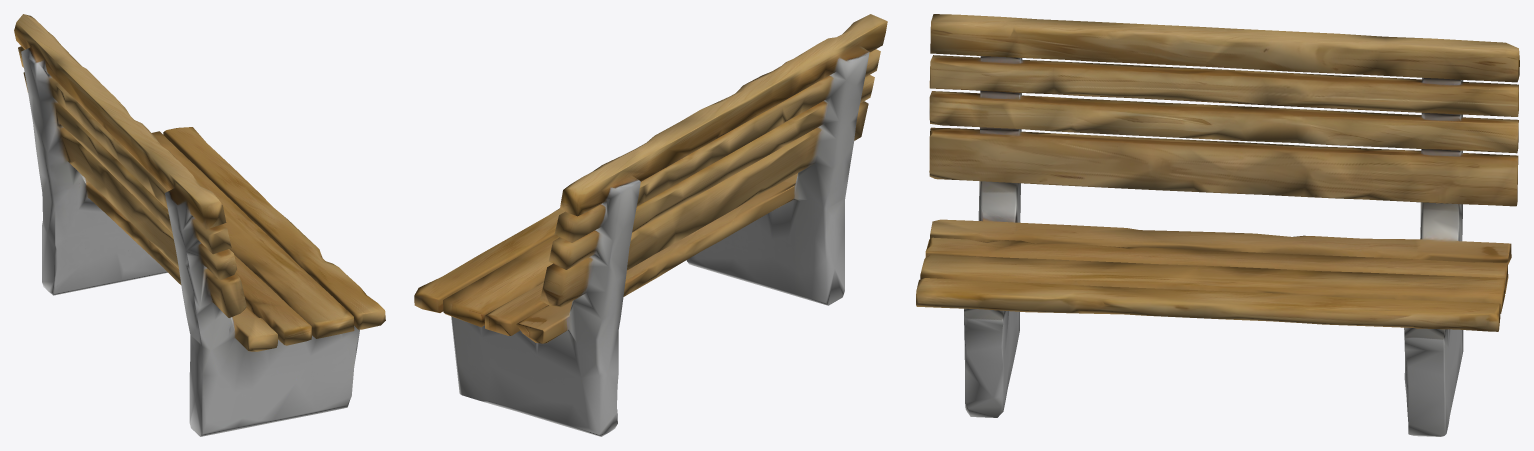
File: bench.glb
The picture shows the model from 3 angles, left to right: view 1: azimuth 30°, elevation 25°; view 2: azimuth 150°, elevation 25°; view 3: azimuth 270°, elevation 25°; orthographic projection. The views are drawn at different scales.
Parts seen in each view (by area): view 1: tripo_node_33b04e90-58e0-4bff-825d-5aef90048330; view 2: tripo_node_33b04e90-58e0-4bff-825d-5aef90048330; view 3: tripo_node_33b04e90-58e0-4bff-825d-5aef90048330.
Boxes of the visible parts, left/top/right/bottom form: tripo_node_33b04e90-58e0-4bff-825d-5aef90048330: left=14, top=14, right=385, bottom=436; tripo_node_33b04e90-58e0-4bff-825d-5aef90048330: left=414, top=14, right=887, bottom=436; tripo_node_33b04e90-58e0-4bff-825d-5aef90048330: left=916, top=14, right=1519, bottom=436.
Size of the model in its own units: 0.5193 by 0.5659 by 1.
1 material, 1 textured.
